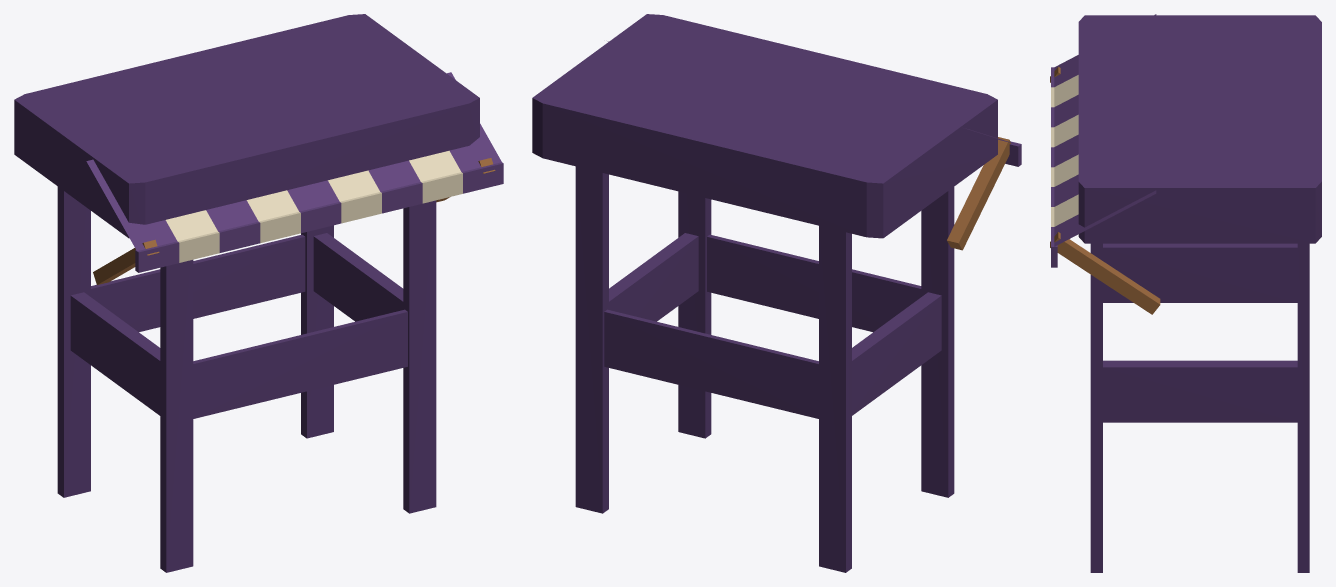
The model's file is market-stall-lilac.glb.
3 renders of one model, left to right at view 1: azimuth 30°, elevation 25°; view 2: azimuth 150°, elevation 25°; view 3: azimuth 270°, elevation 25°, orthographic.
Visible parts, largest first — view 1: market-stall-lilac; view 2: market-stall-lilac; view 3: market-stall-lilac.
Part boxes in pixels (box(x1,y1,x2,y2)): market-stall-lilac: box(14, 14, 503, 572); market-stall-lilac: box(532, 14, 1021, 572); market-stall-lilac: box(1050, 14, 1321, 572).
Size of the model in its own units: 2.24 by 2.35 by 1.43.
